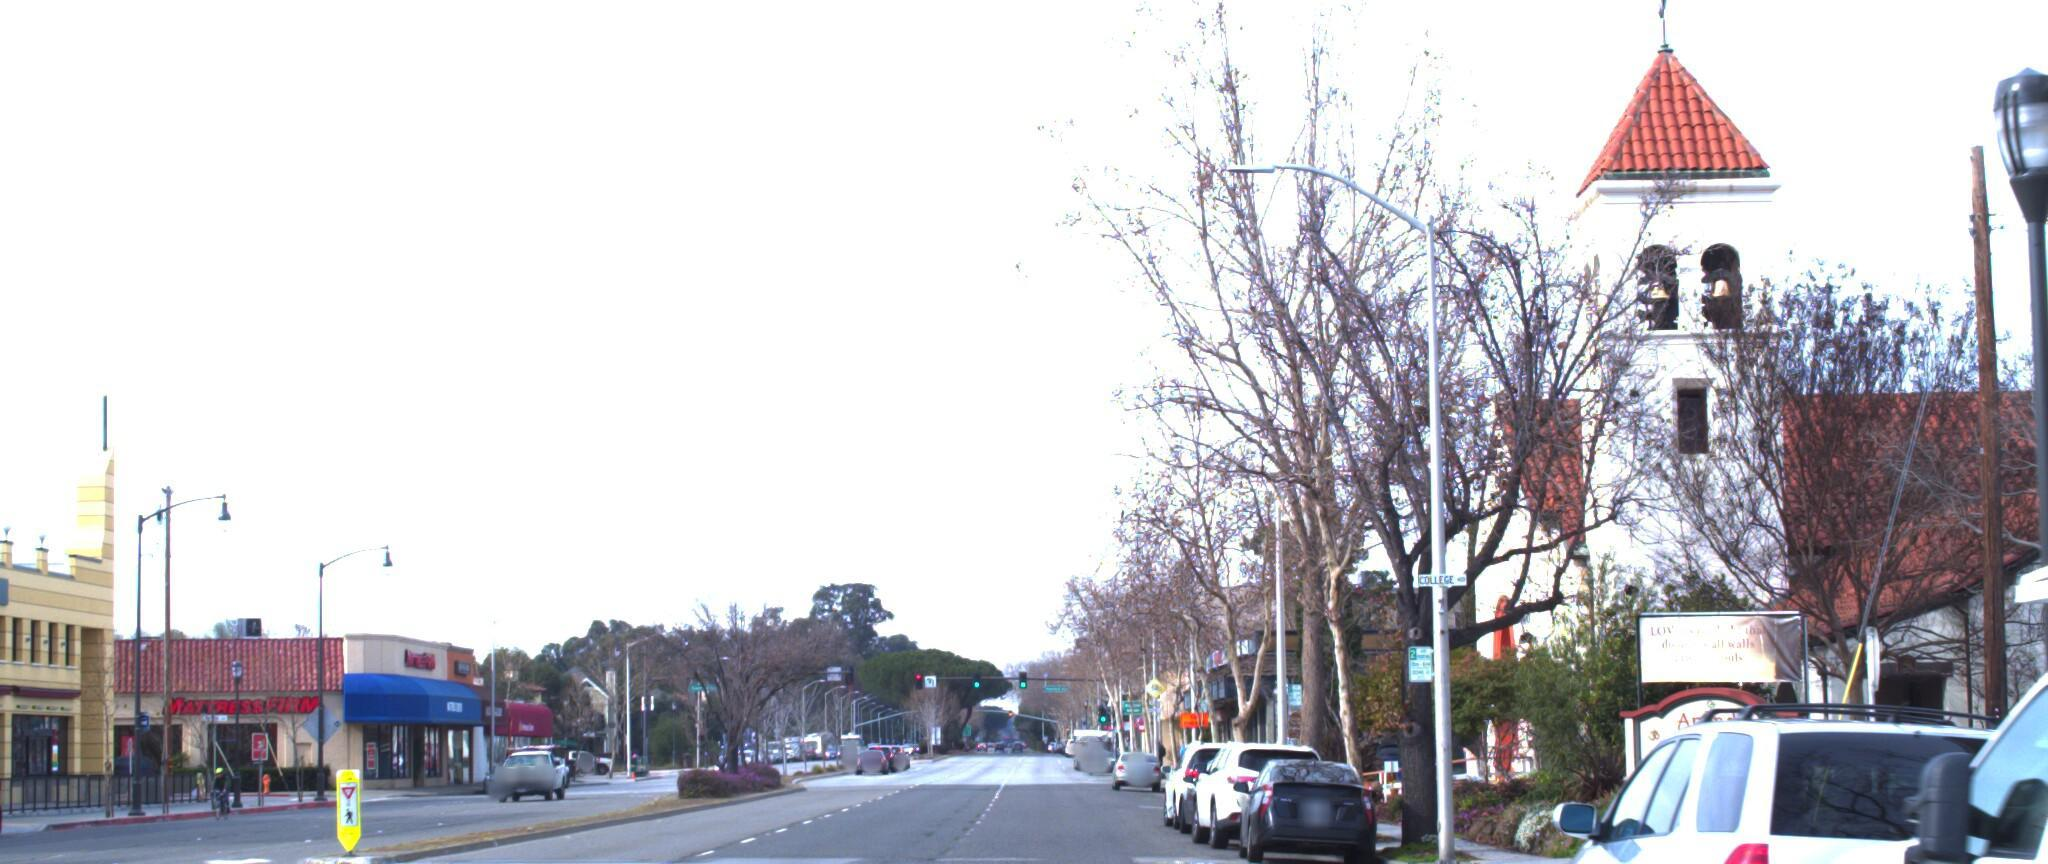car: (1735, 316, 2048, 864), (1505, 700, 2048, 864), (1229, 741, 1384, 861), (1189, 727, 1339, 844), (1155, 724, 1288, 824)
